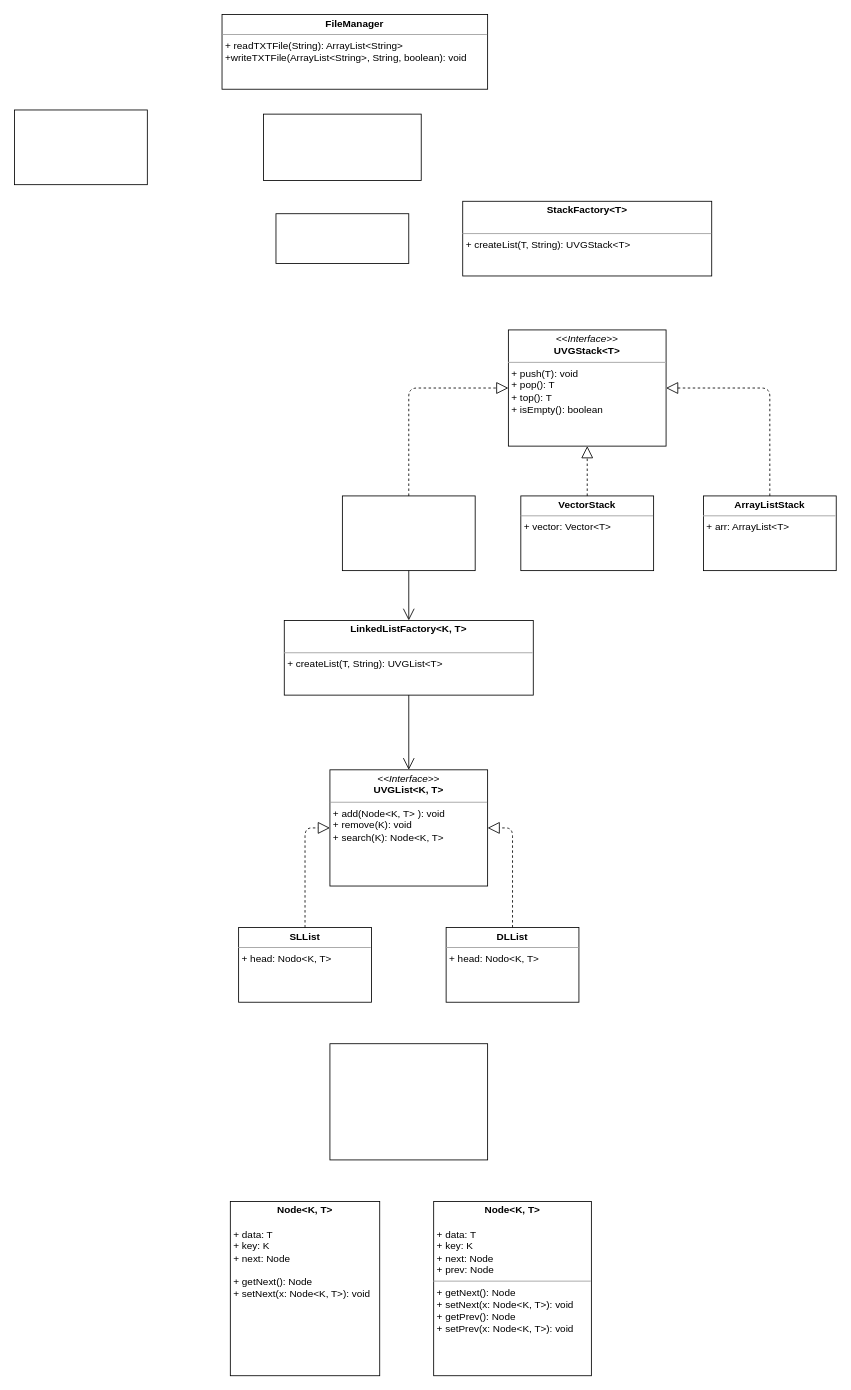
This 851x1390 diagram has some shape labels left out. The box of each missing label's shape, as (x1, y1, x2, y2) in pixels:
<<Interface>> UVGNode<K, T> + getKey(): K + getData(): T: (329, 1043, 488, 1160)
App + main(String[]): void: (14, 109, 147, 185)
Calculator + calc(String, String): int: (275, 213, 409, 264)
InfixConverter + infixToPostfix(String): String: (263, 113, 421, 181)
LinkedListStack + list: UVGList<K, T>: (342, 495, 475, 571)
